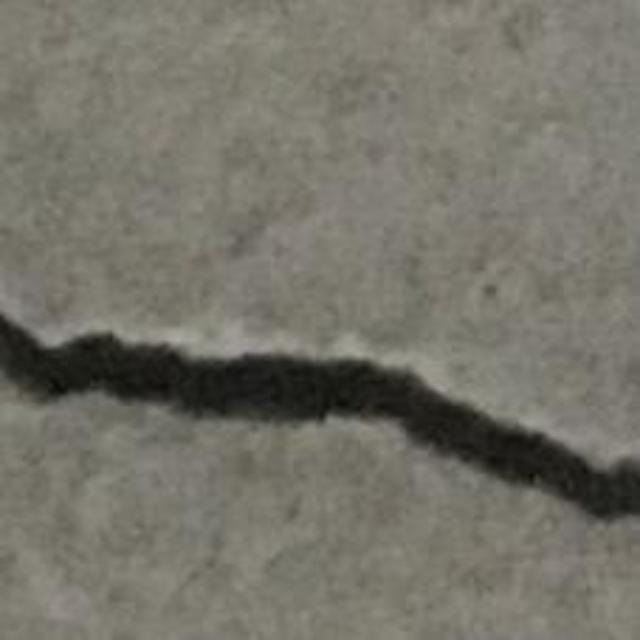crack: (0, 313, 639, 521)
